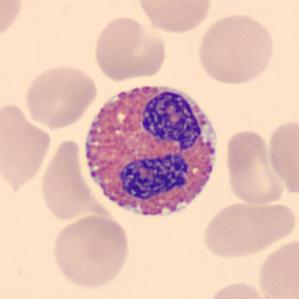Eosinophil: (74, 71, 228, 230)
RBC: (49, 212, 132, 291), (194, 11, 278, 86), (200, 197, 296, 260), (90, 14, 168, 82), (22, 62, 100, 129), (222, 127, 286, 207), (0, 99, 53, 190), (38, 137, 92, 224), (134, 0, 215, 35), (255, 235, 299, 299), (265, 116, 299, 197), (204, 279, 272, 299), (0, 0, 26, 43)
